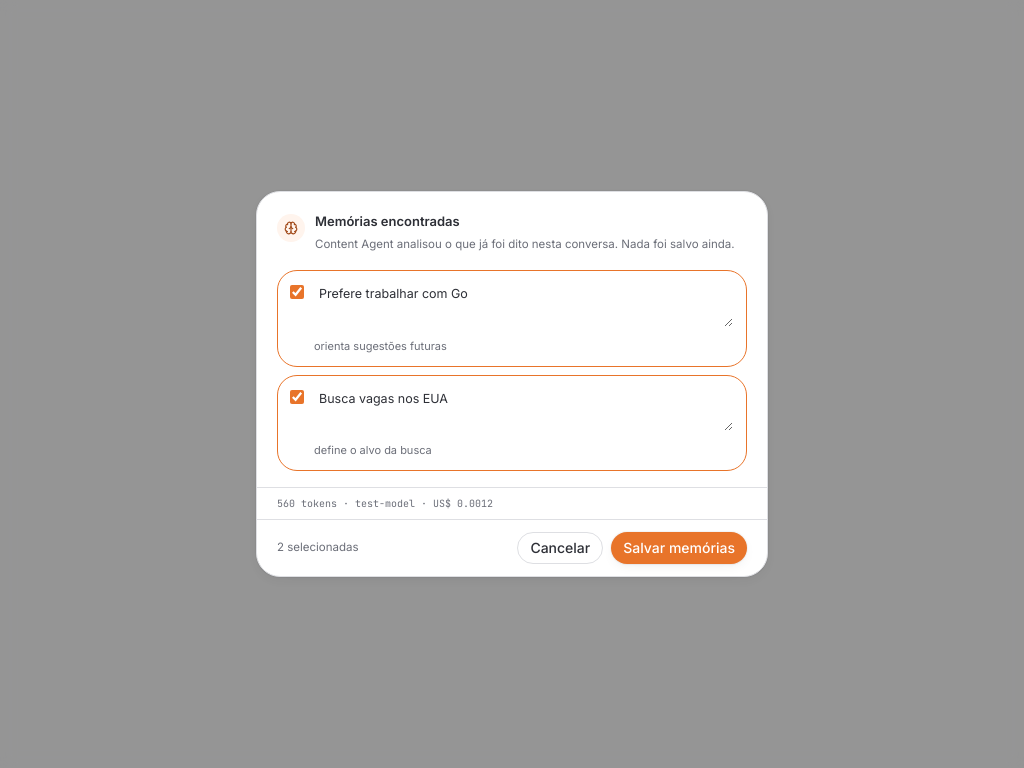
Test case: MemoryCandidatesDialog › cannot confirm an empty selection
Click the checkbox labelled "orienta sugestões futuras" at (297, 292), box [290, 285, 304, 299]
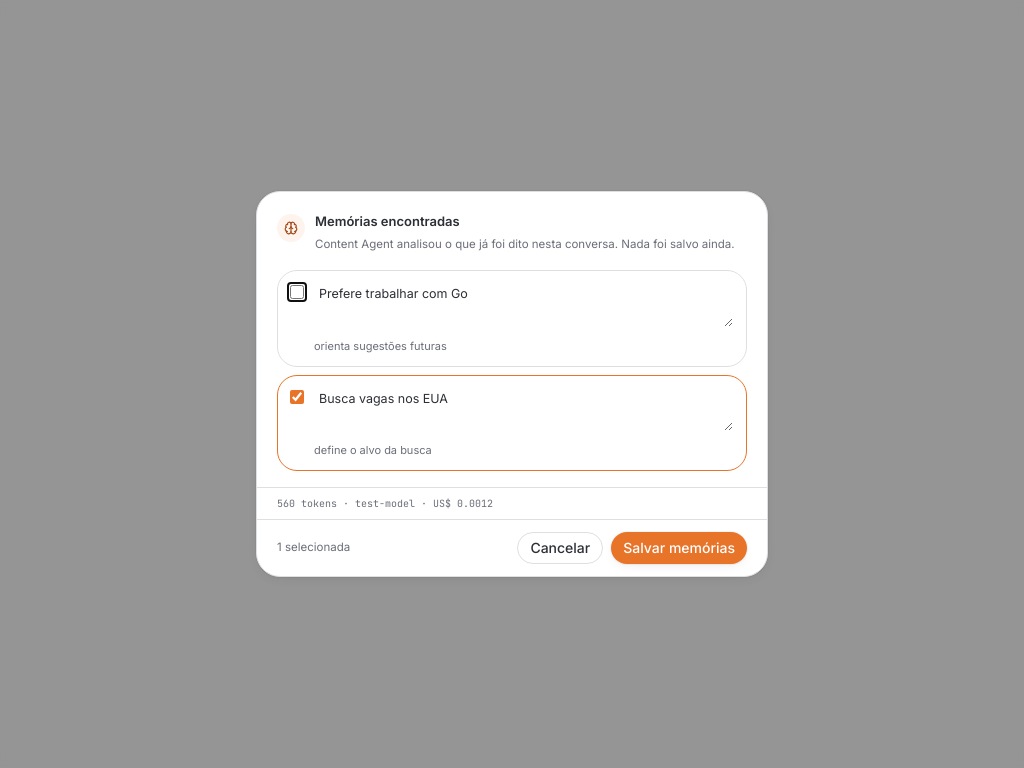
Click the checkbox labelled "define o alvo da busca" at (297, 397), box [290, 390, 304, 404]
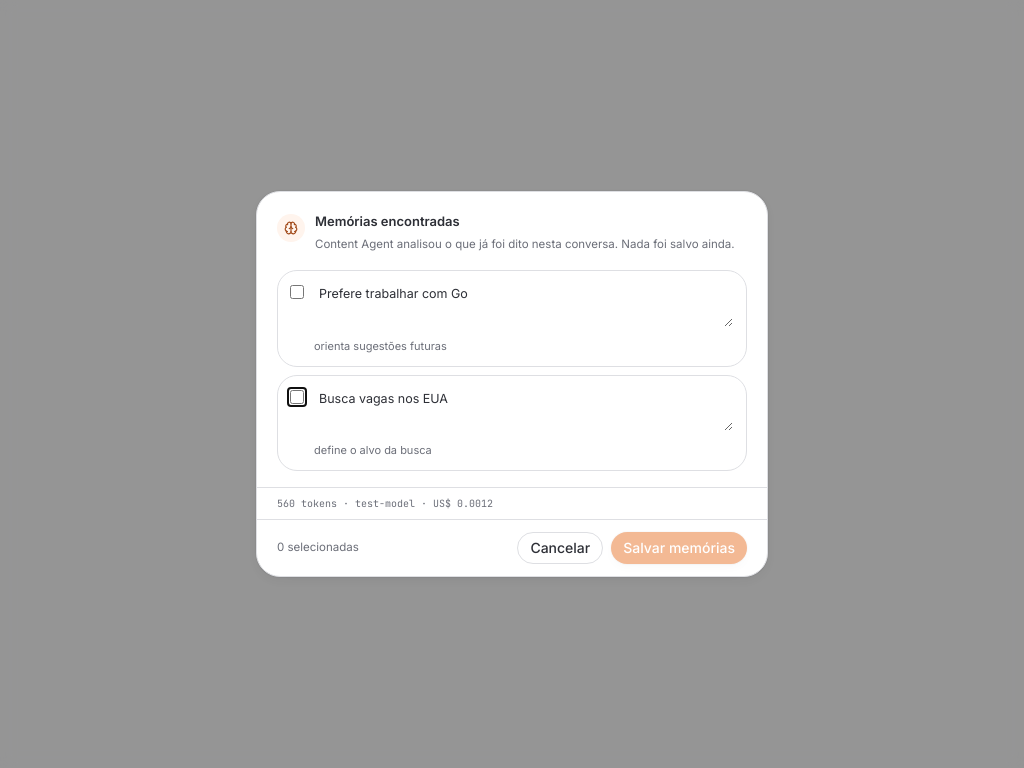
Result: the button "Salvar memórias" is disabled at [611, 532, 747, 564]
